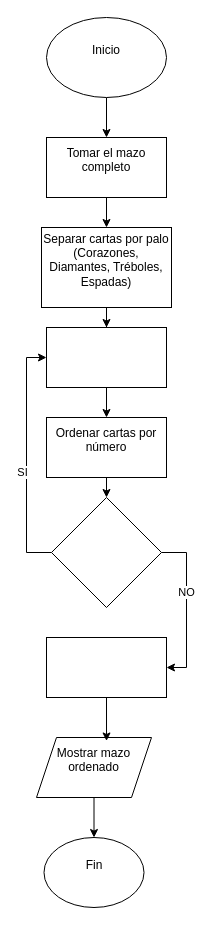
Image size: 212x925. Some labels were removed from this diagram. Each missing label, with the centre of its shape:
Seleccionar una pila de cartas: the point at 106,357
Unir todas las pilas ordenadas: the point at 106,667
¿Quedan pilas sin ordenar?: the point at 106,552
